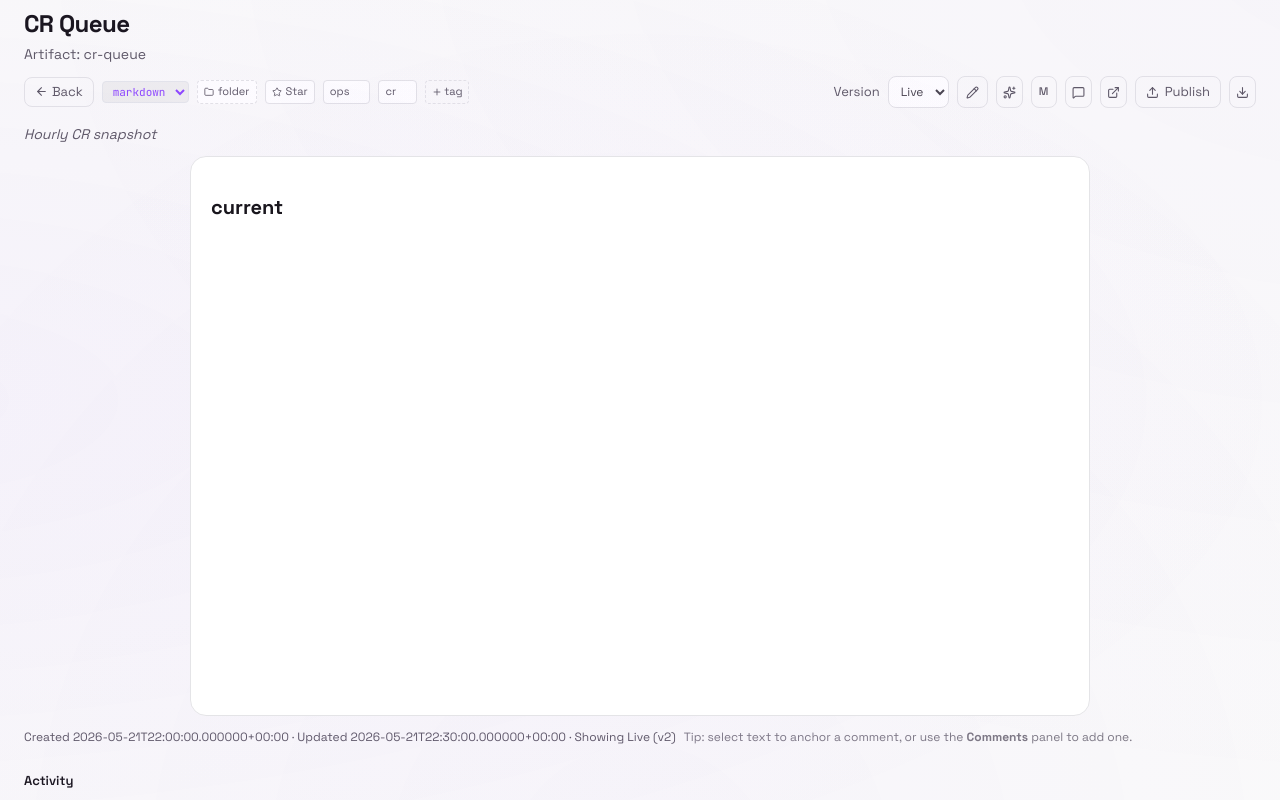
Scenario: ArtifactDetailPage › revert button appears only when viewing a historical version
Check: the button "CR Queue" is shown, box [24,8,151,40]
// Switch to v1.
Select "v1" in the dropdown named "Version": {"x": 918, "y": 92} [888,76,949,108]
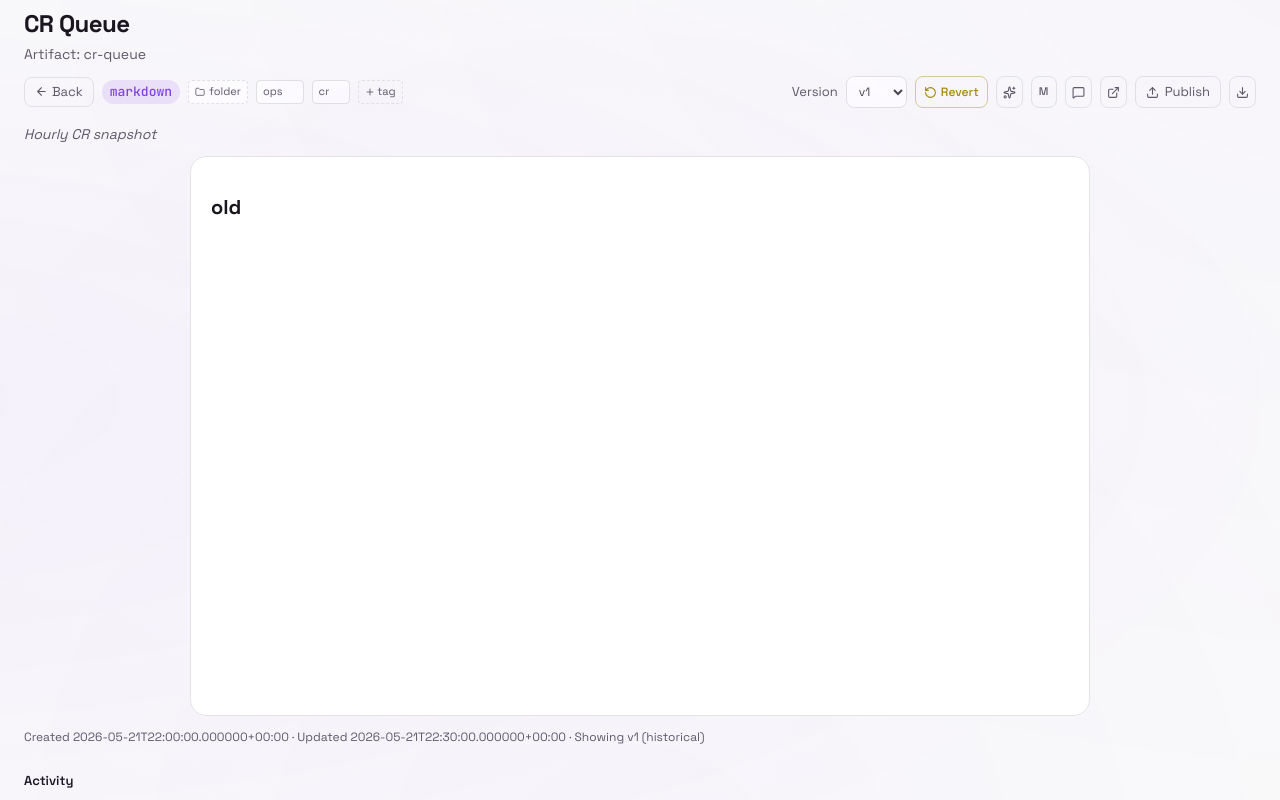
Check: the button titled "Revert to v1" is shown, box [915,76,988,108]
